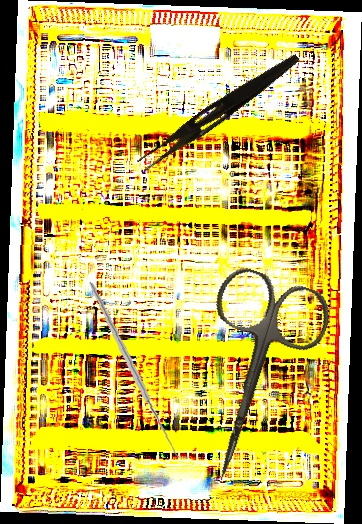Dressing Forceps: (136, 45, 302, 178)
Hook Surgical: (77, 282, 200, 459)
Iris Scissors: (163, 262, 339, 497)
